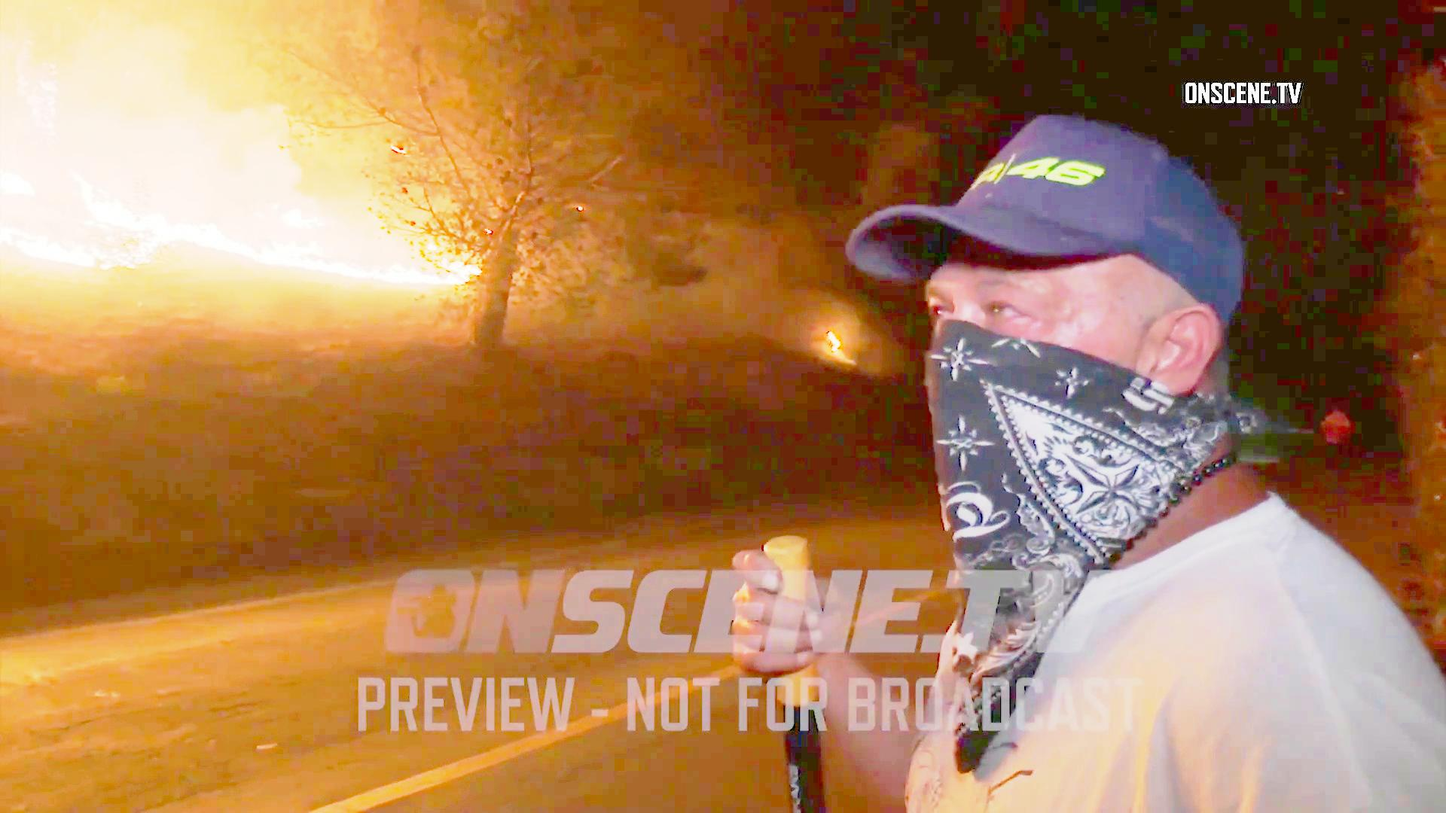smoke: (16, 0, 219, 160)
